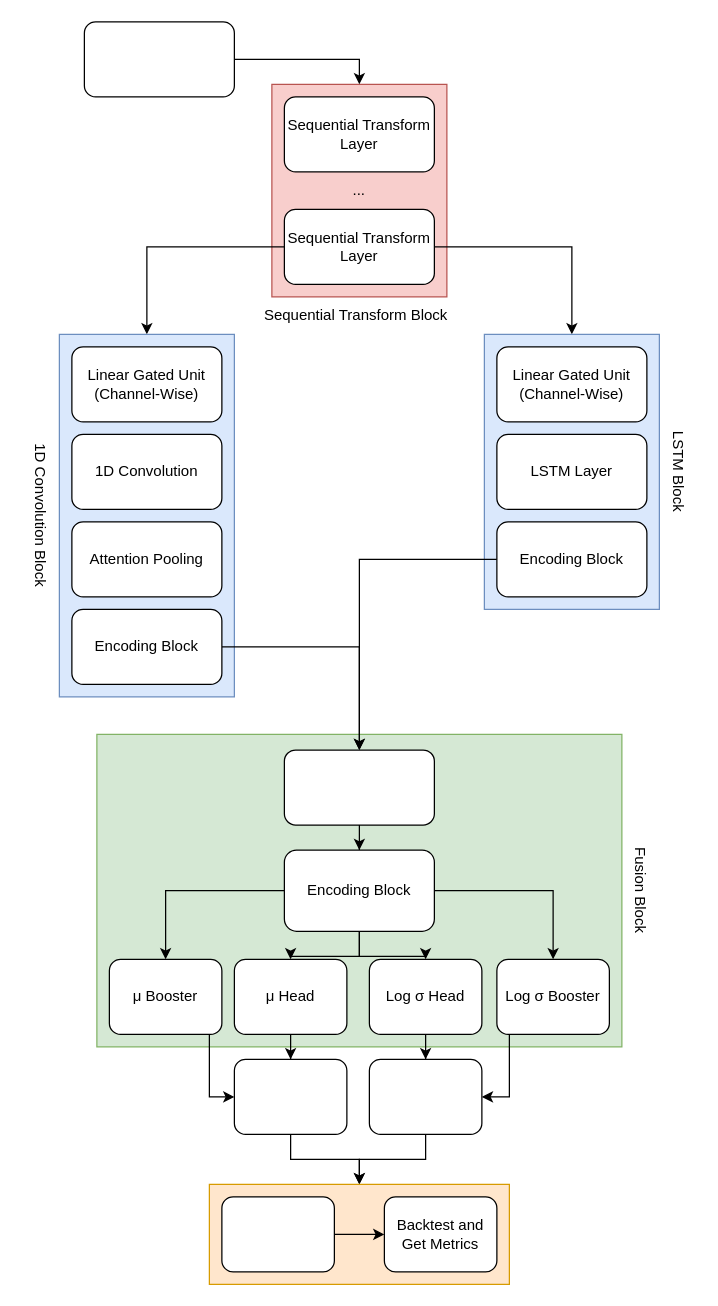
The diagram is 718 pixels wide and 1306 high, and some of its shapes have lost their labels. Each missing label, with the centre of its shape:
Action Sampling: pixel 277 1234
Concatenation: pixel 358 787
Log σ Head + Log σ Booster: pixel 425 1096
Technical Analysis Features From Market Data: pixel 158 59
μ Head + μ Booster: pixel 290 1096
